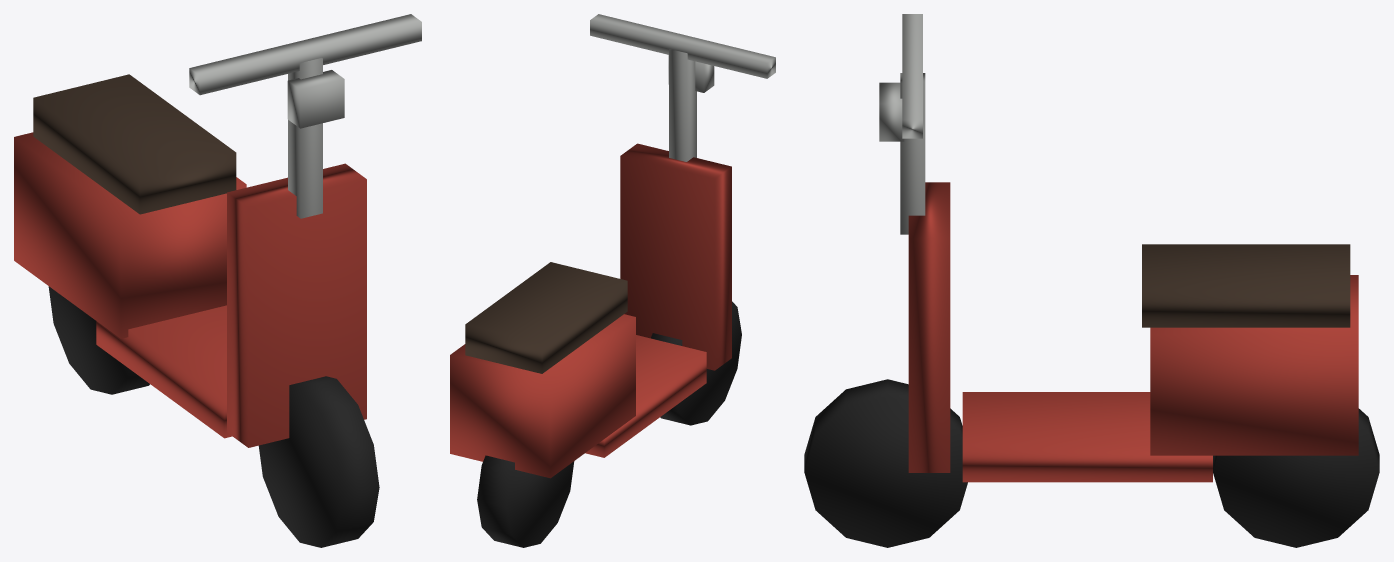
The model's file is street_scooter_red.glb.
The picture shows the model from 3 angles, left to right: view 1: azimuth 30°, elevation 25°; view 2: azimuth 150°, elevation 25°; view 3: azimuth 270°, elevation 25°; orthographic projection. The views are drawn at different scales.
Parts seen in each view (by area): view 1: street_scooter_red; view 2: street_scooter_red; view 3: street_scooter_red.
Part boxes in pixels (x1,y1,x2,y2): street_scooter_red: (14, 14, 421, 547); street_scooter_red: (450, 14, 775, 547); street_scooter_red: (804, 14, 1379, 547).
Size of the model in its own units: 0.6 by 1.25 by 1.38.
